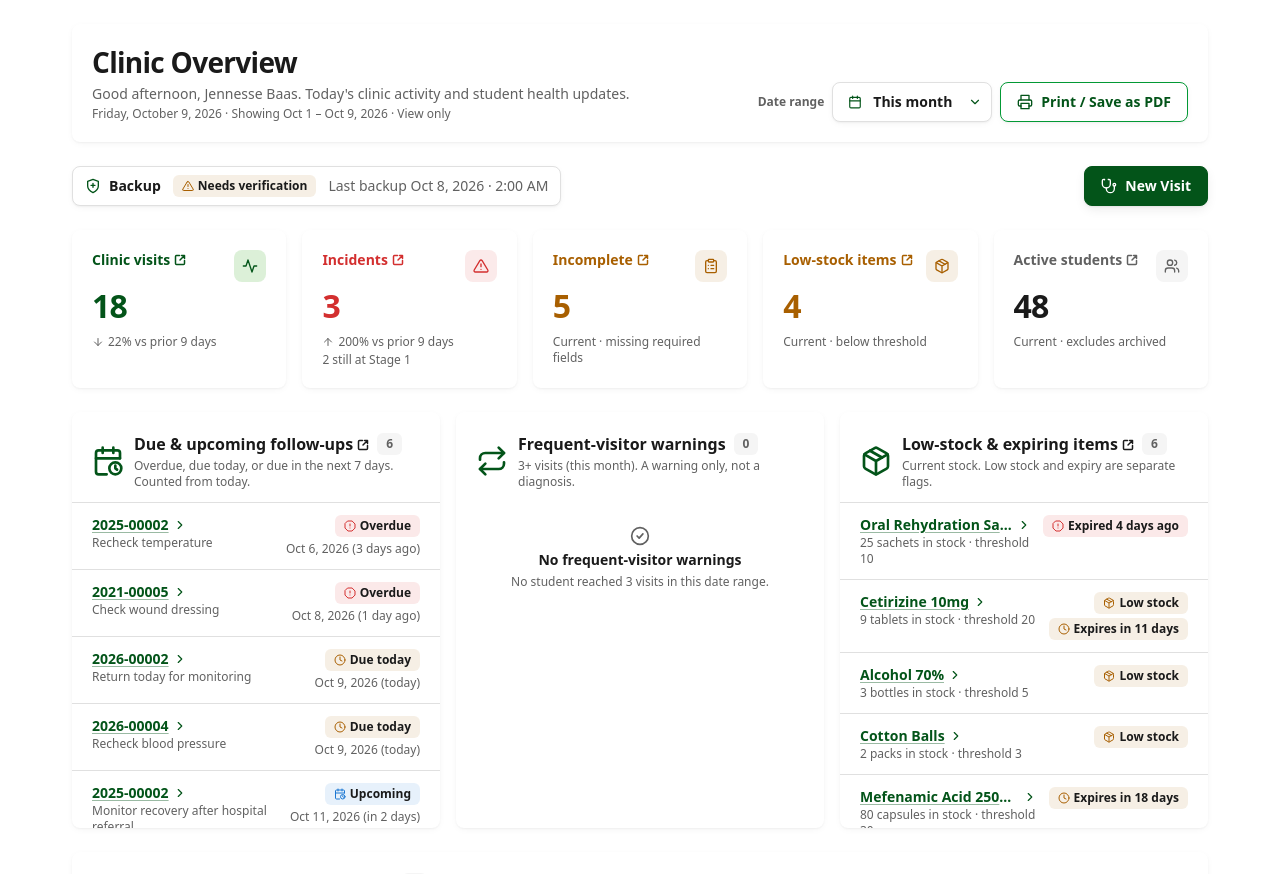
Test: Clinic Overview Dashboard › never shows a student name anywhere on the page (display-privacy rule)
The image size is (1280, 874).
Expected: the heading "Due & upcoming follow-ups 6" is shown, left=134, top=432, right=420, bottom=456
Click the button with aria-label "Date range" at (912, 102), box left=832, top=82, right=992, bottom=122
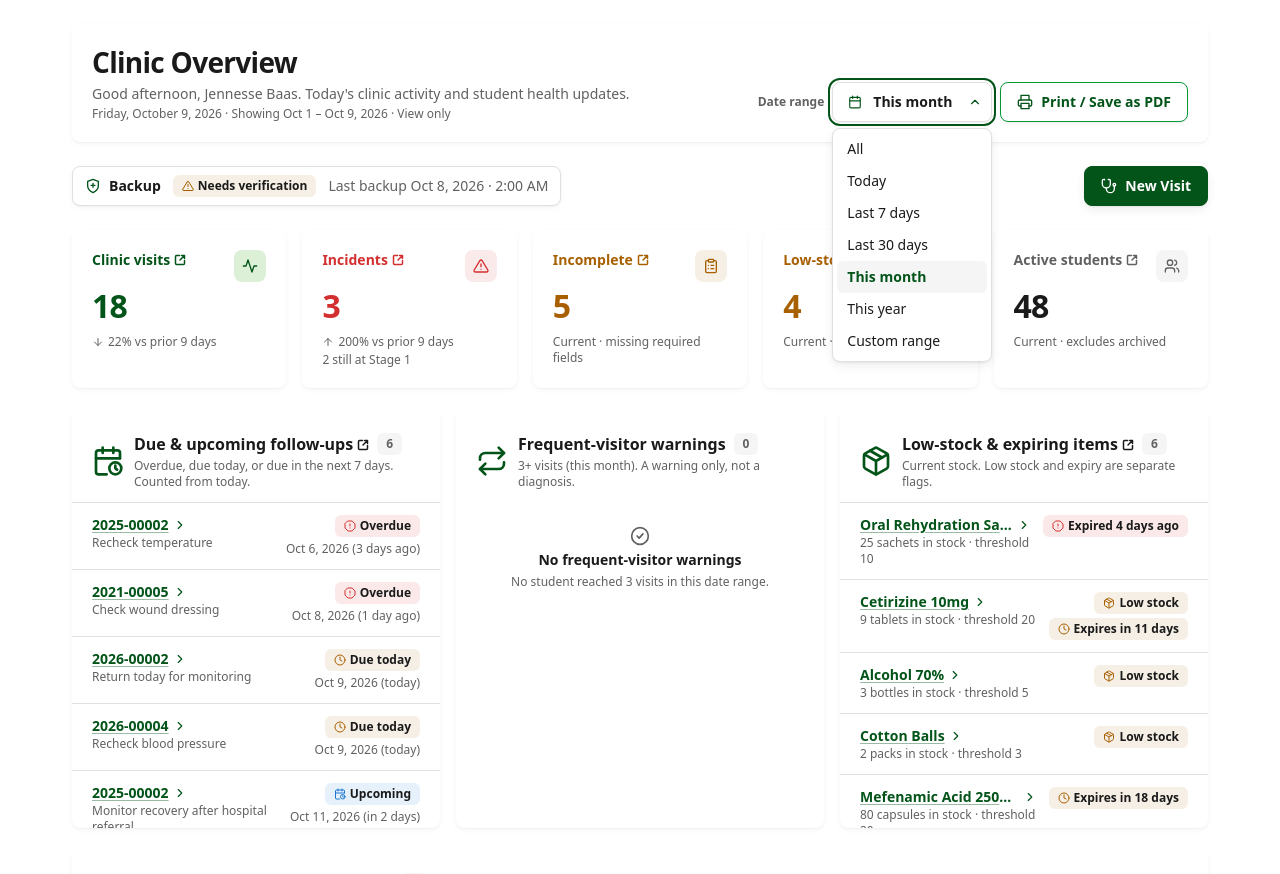
Click the option "All" at (912, 149), box left=837, top=133, right=987, bottom=165
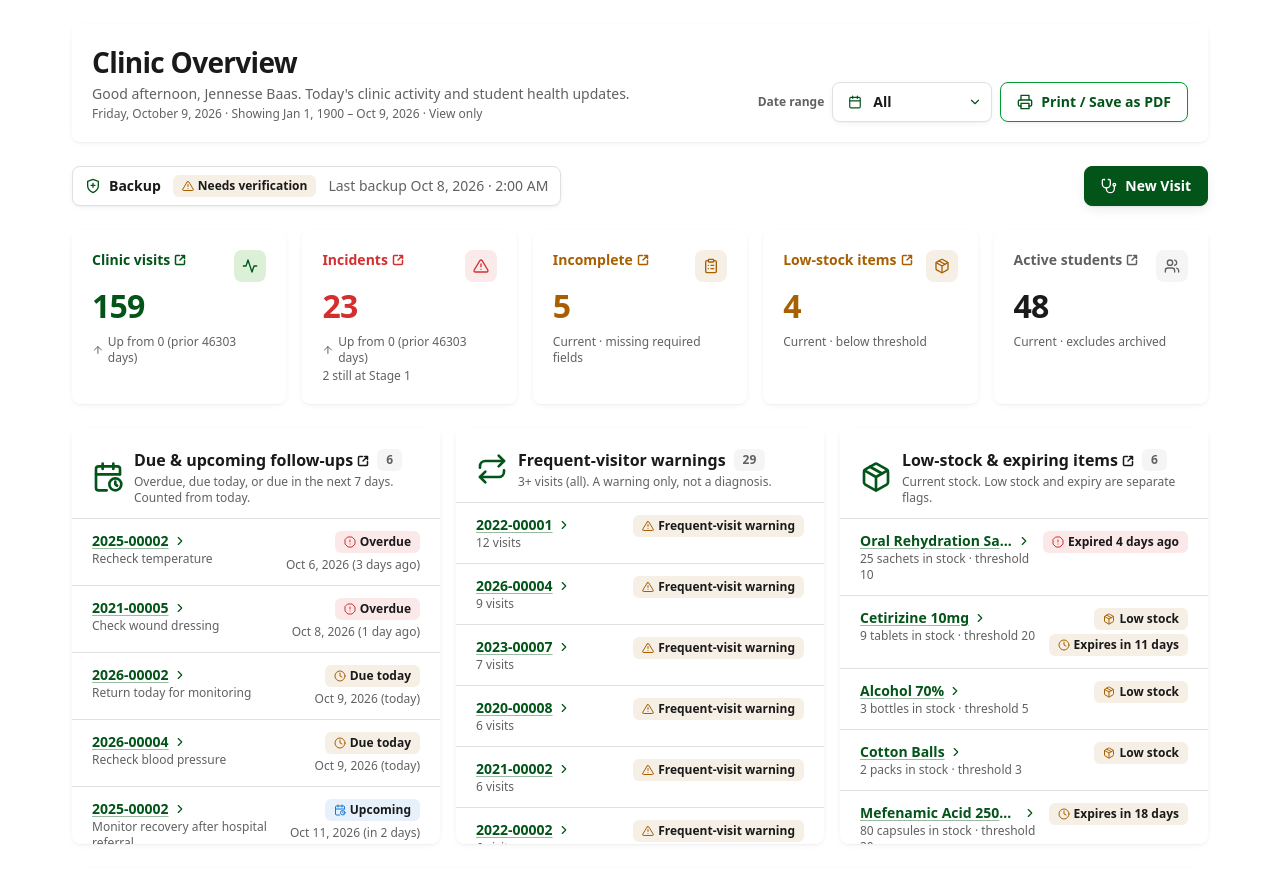
Now the button with aria-label "Date range" reads "All", box left=832, top=82, right=992, bottom=122
Now the list item "2022-00001 12 visits Frequent-visit warning" is shown, box left=456, top=503, right=824, bottom=564
